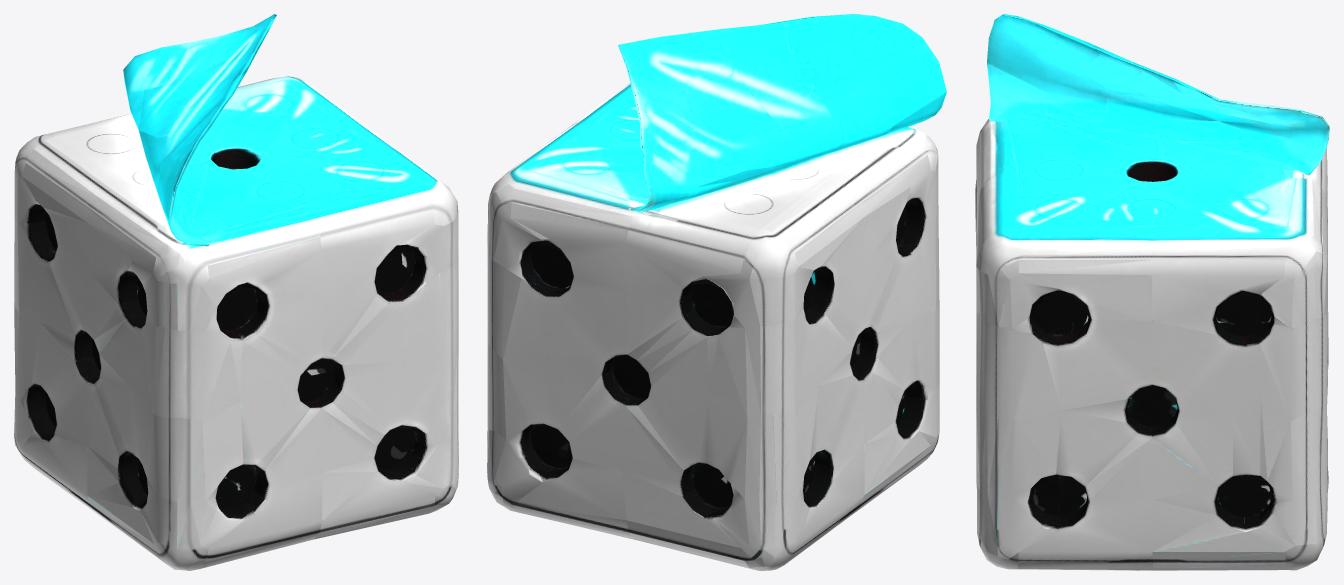
Rendered from factory_finish.glb.
3 renders of one model, left to right at view 1: azimuth 30°, elevation 25°; view 2: azimuth 150°, elevation 25°; view 3: azimuth 270°, elevation 25°, orthographic.
Size of the model in its own units: 0.707 by 1 by 0.7109.
1 material, 1 textured.
